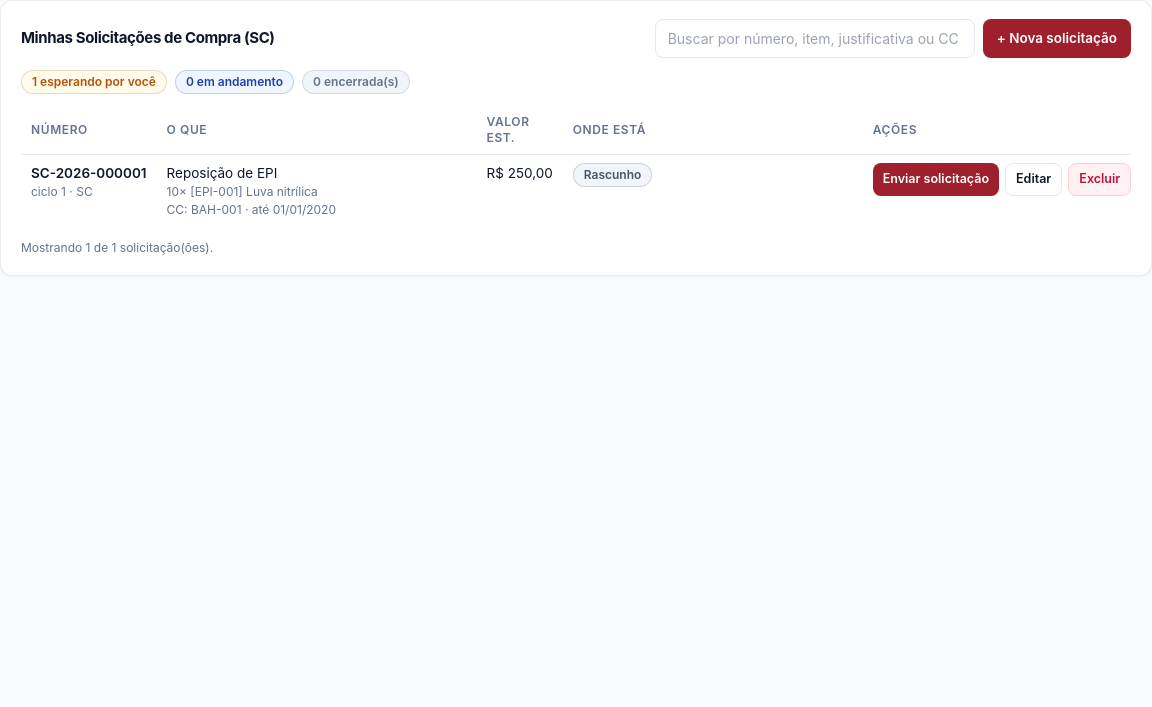
<MeusPedidos /> › a data que já passou avisa na edição, em vez de esperar o envio falhar
The image size is (1152, 707).
Expected: the table with test id "tabela-solicitacoes" is shown, [21,106,1131,227]
Click the button "Editar": (1034, 179) [1005,163,1062,196]
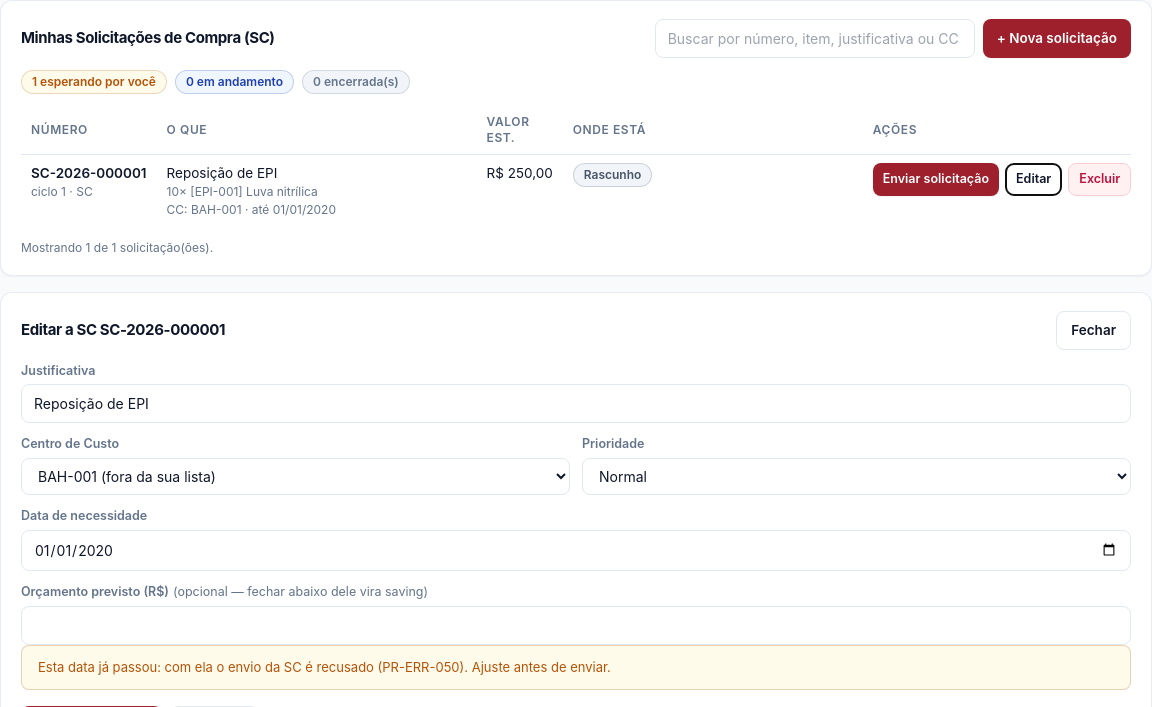
Expected: the text with test id "data-vencida" shows "PR-ERR-050", [38,658,611,674]
Clear the date field labelled "Data de necessidade": (576, 550) [21,530,1131,571]
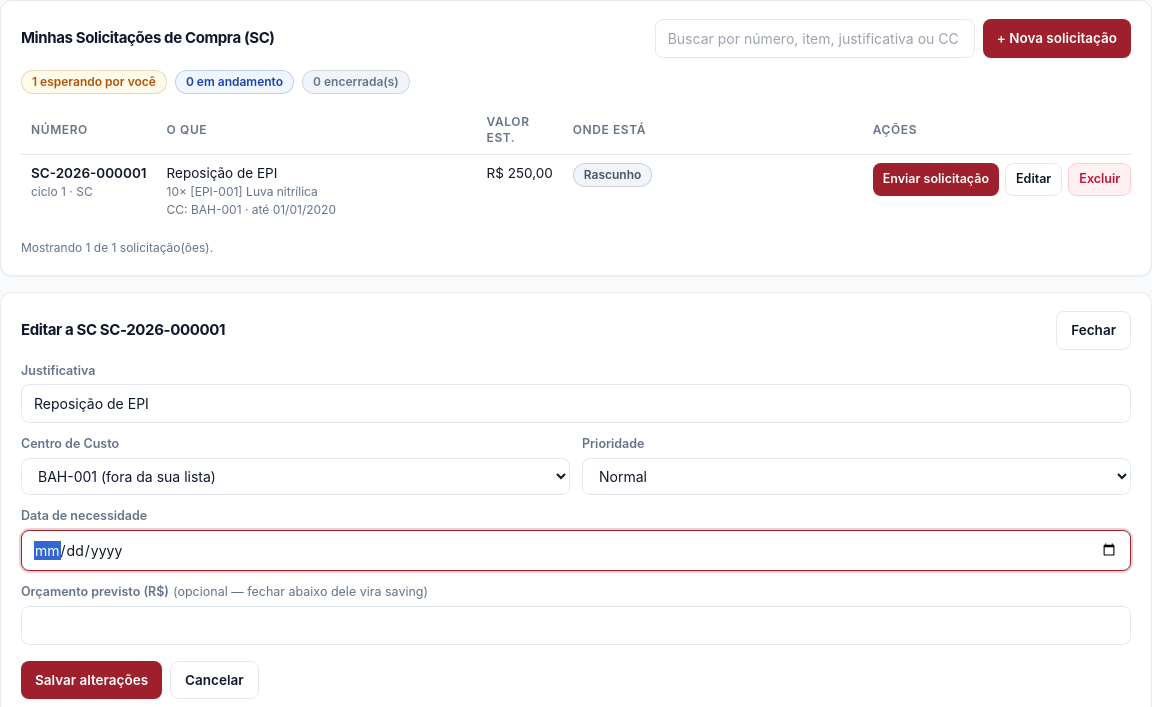
Expected: the text with test id "data-vencida" is gone
